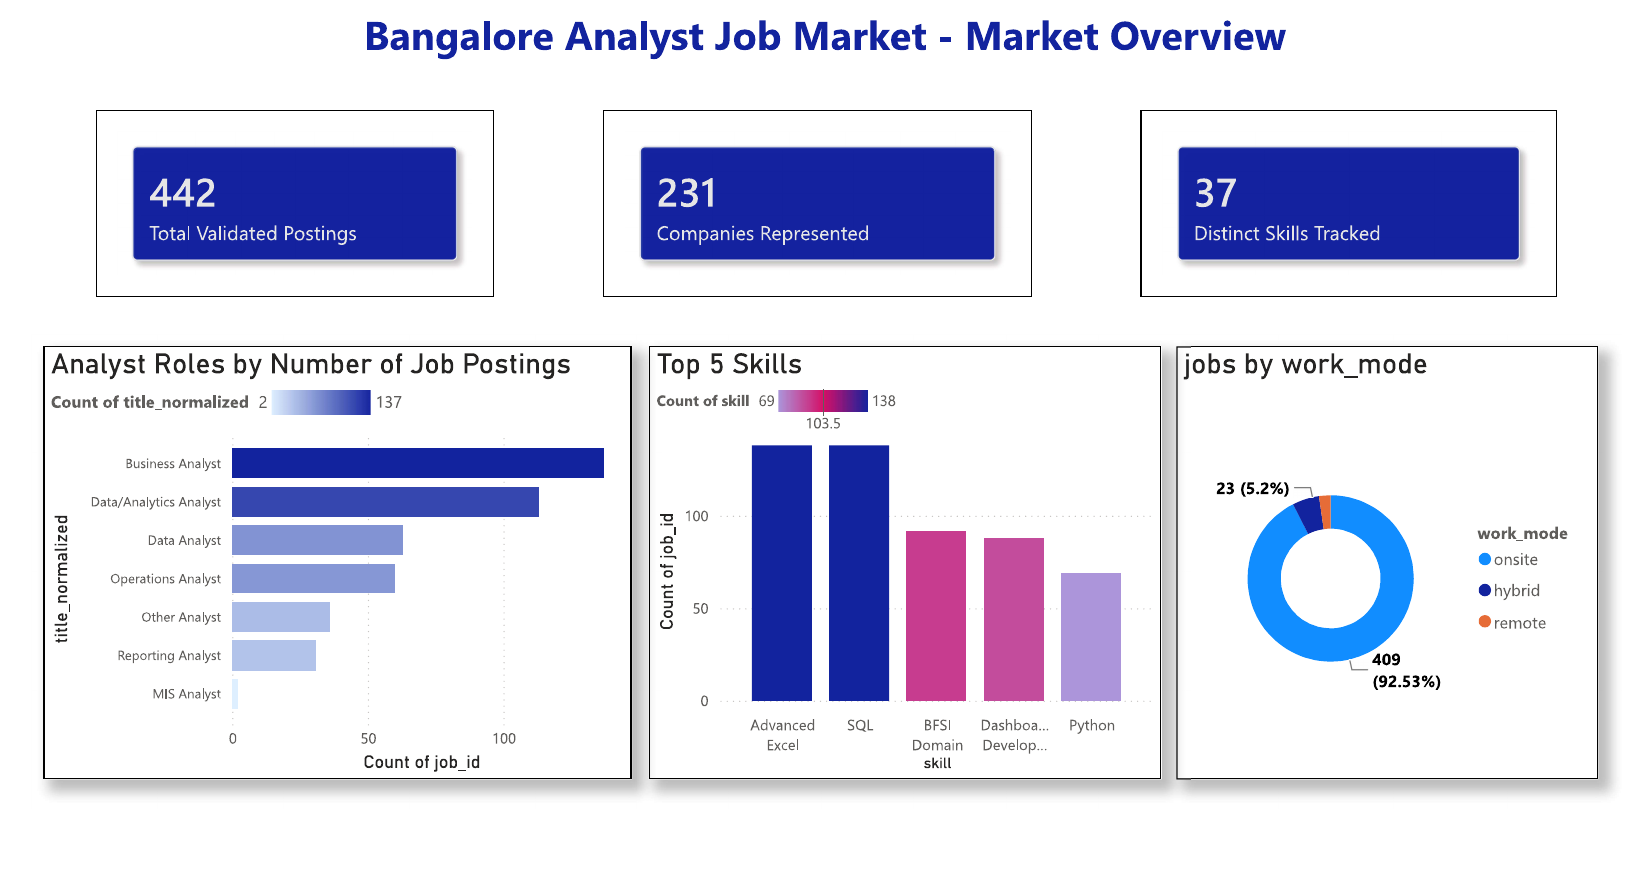

This screenshot's page, from the dashboard's own definition file:
{"tool":"powerbi","page":{"name":"Market_Overview","canvas":[1280,720],"ordinal":0},"visuals":[{"type":"cardVisual","fields":{"Data":["Count(jobs.job_id)"]},"box":[52.6,123.5,320.4,151.6],"z":0},{"type":"cardVisual","fields":{"Data":["Count(jobs.company)"]},"box":[461,123.5,344.8,151.6],"z":1000},{"type":"cardVisual","fields":{"Data":["Count(job_skills.skill)"]},"box":[892.7,123.5,335.1,151.6],"z":2000},{"type":"clusteredBarChart","title":"Analyst Roles by Number of Job Postings","fields":{"Category":["jobs.title_normalized"],"Y":["Count(jobs.job_id)"]},"box":[11,314.3,473.2,347.3],"z":3000},{"type":"donutChart","title":"jobs by work_mode","fields":{"Category":["jobs.work_mode"],"Y":["Count(jobs.job_id)"]},"box":[922,314.3,338.7,347.3],"z":4000},{"type":"textbox","box":[72.7,35.7,1133.5,68.6],"z":5000},{"type":"clusteredColumnChart","title":"Top 5 Skills","fields":{"Category":["job_skills.skill"],"Y":["CountNonNull(job_skills.job_id)"]},"box":[497.7,314.3,412.1,347.3],"z":6000}]}

Visuals, with their boxes on the page's 1280x720 design canvas (x1, y1, x2, y2). These are canvas units, not pixel positions in the 1650x887 screenshot, which may show the page scaled, cropped or inside an application window:
cardVisual - Count(jobs.job_id): {"x1": 53, "y1": 124, "x2": 373, "y2": 275}
cardVisual - Count(jobs.company): {"x1": 461, "y1": 124, "x2": 806, "y2": 275}
cardVisual - Count(job_skills.skill): {"x1": 893, "y1": 124, "x2": 1228, "y2": 275}
"Analyst Roles by Number of Job Postings" clusteredBarChart: {"x1": 11, "y1": 314, "x2": 484, "y2": 662}
"jobs by work_mode" donutChart: {"x1": 922, "y1": 314, "x2": 1261, "y2": 662}
textbox: {"x1": 73, "y1": 36, "x2": 1206, "y2": 104}
"Top 5 Skills" clusteredColumnChart: {"x1": 498, "y1": 314, "x2": 910, "y2": 662}
